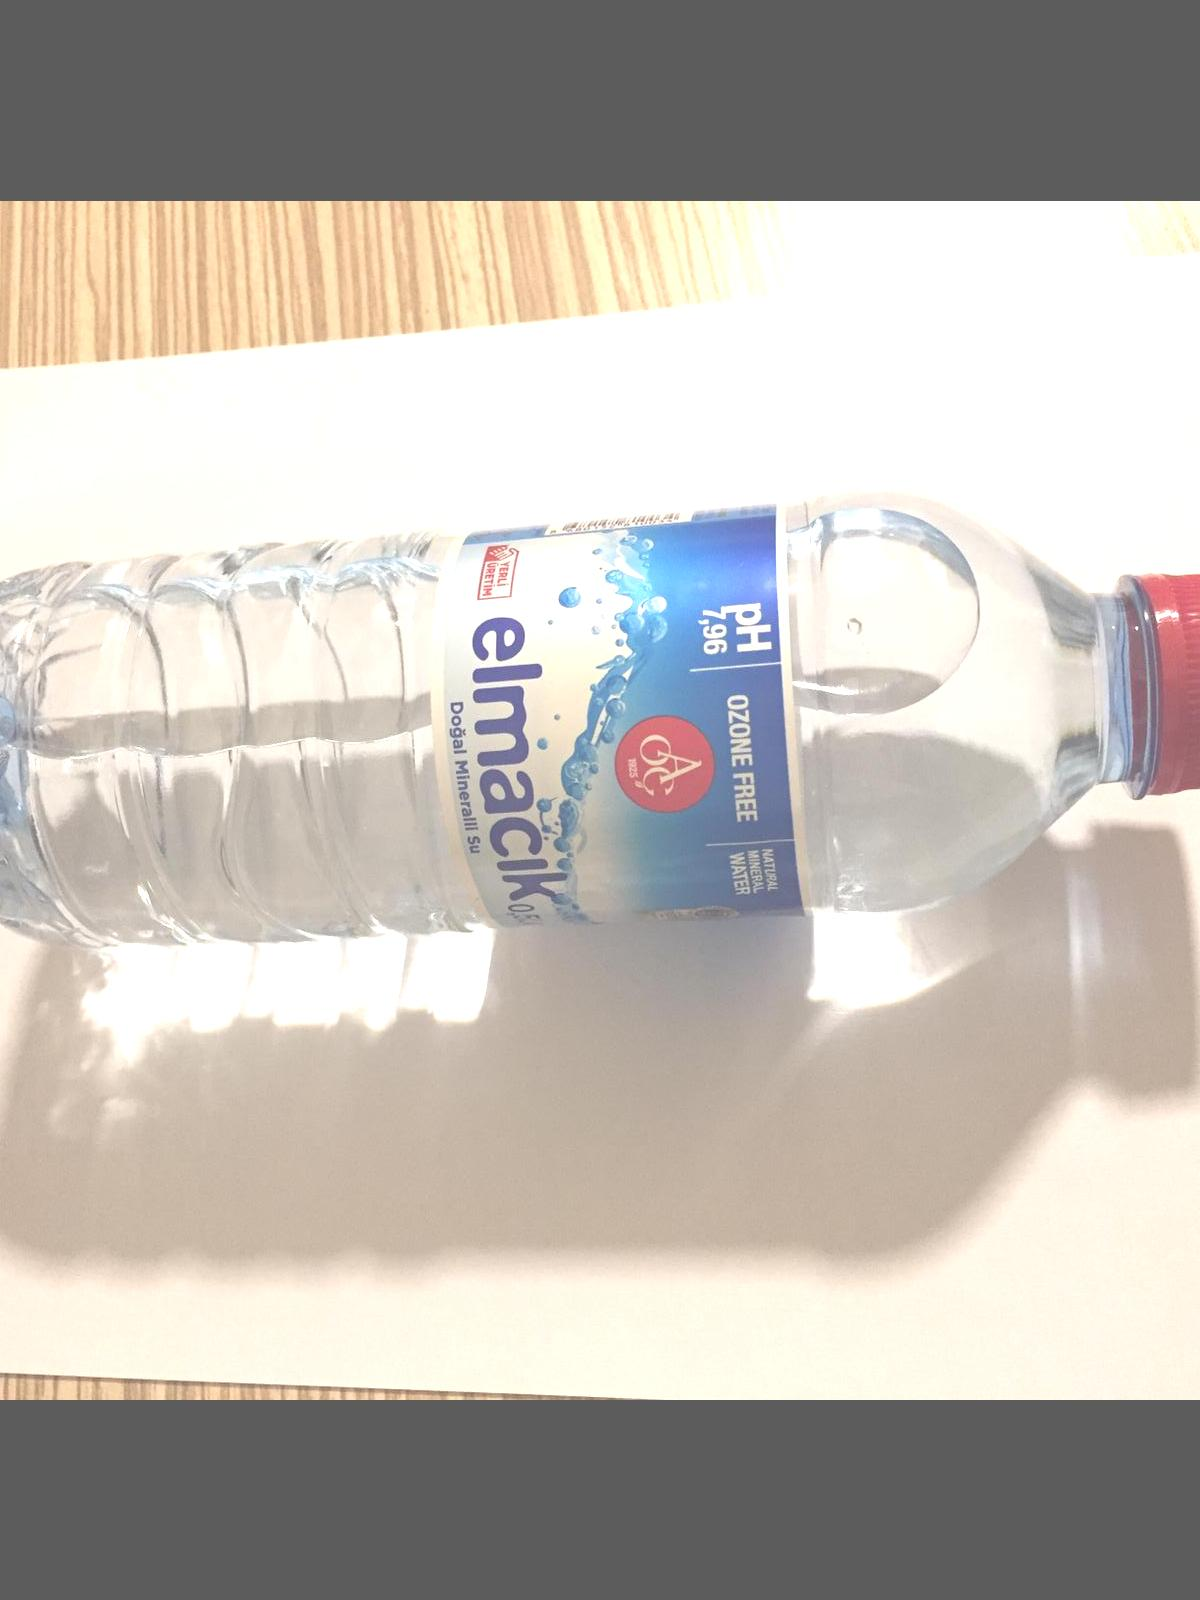bottle: (0, 486, 1200, 942)
